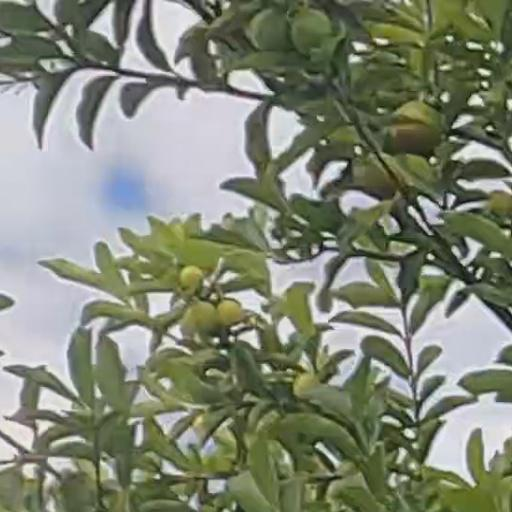acerola_verde: (393, 105, 437, 154), (295, 11, 330, 52), (255, 11, 287, 49)
